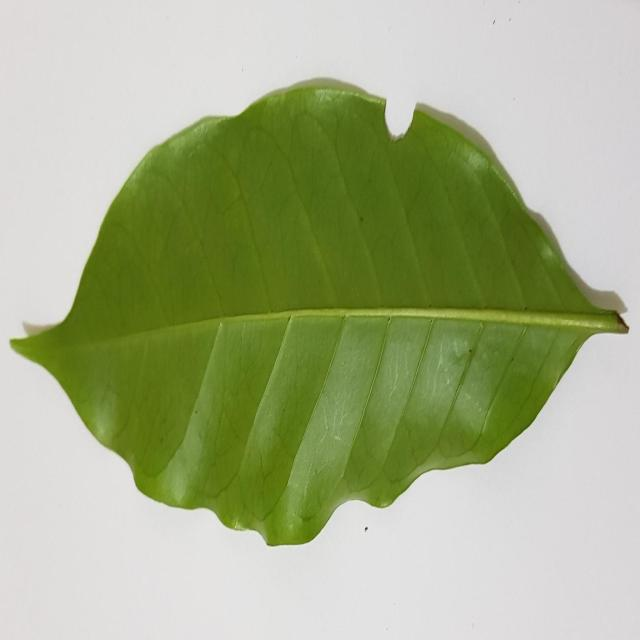nodisease: (11, 79, 628, 546)
